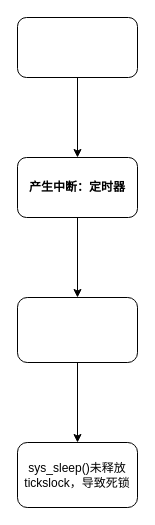
This 155x525 diagram has some shape labels left out. The shapes that lost their labels are listed below. From the top down, each one's centre as x and y in pixels, then its label:
the point at 77,47: sys_sleep() 获得自旋锁tickslock
the point at 77,329: 中断处理： devintr()-> clockintr()-> 尝试获得tickslock
